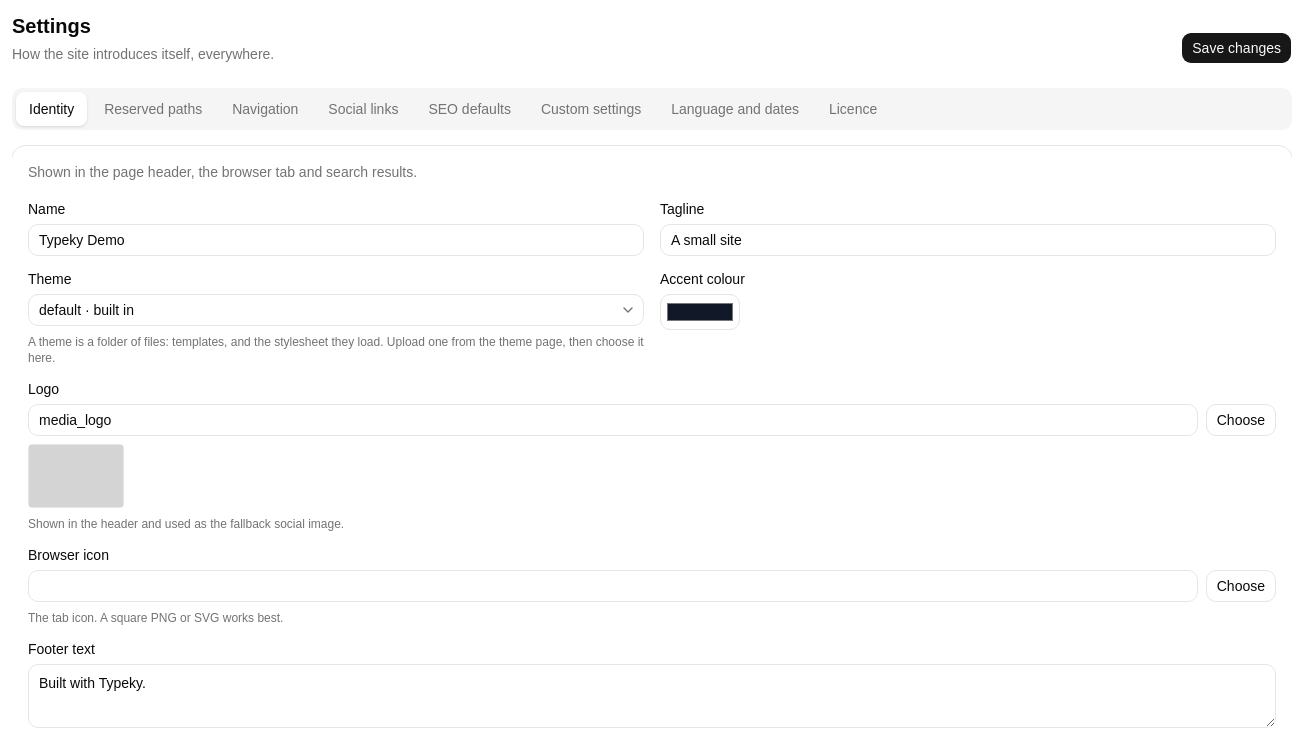
navigation › adds and removes items
This screenshot has width=1304, height=732.
Click the tab "Navigation" at (265, 109), box [219,92,311,126]
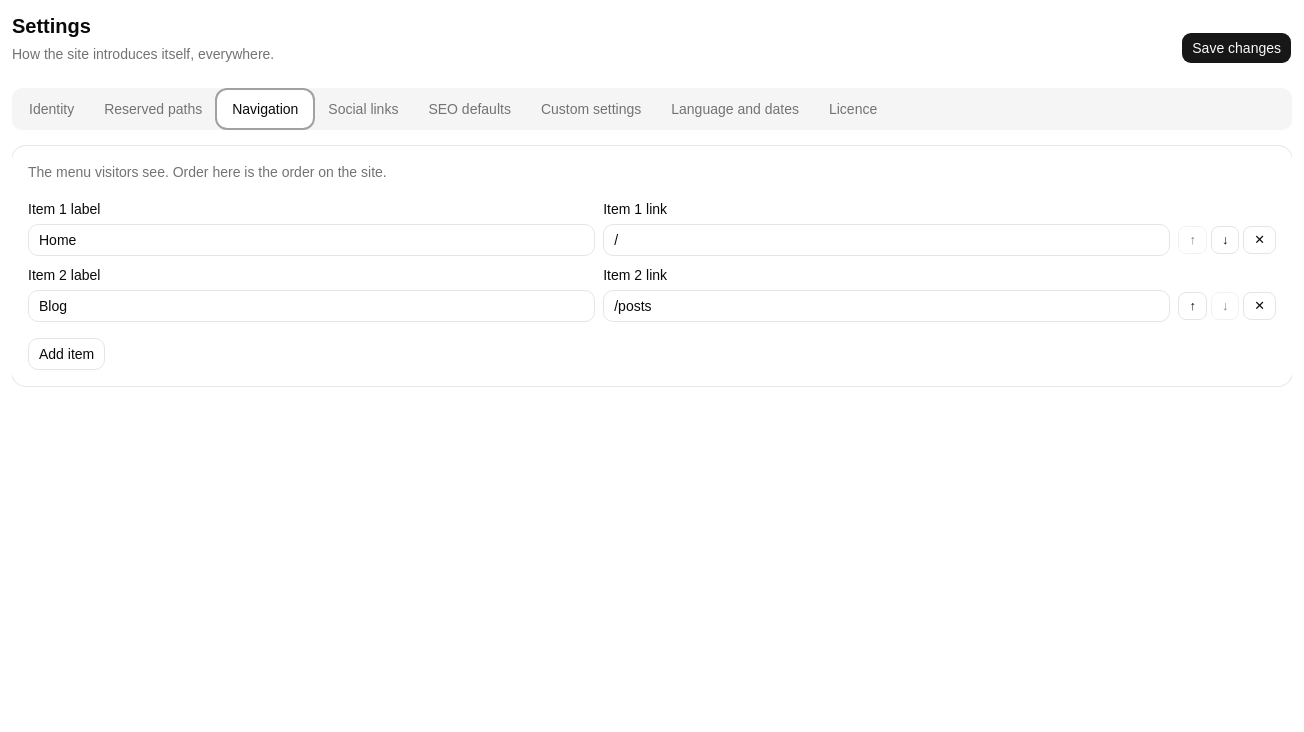
Click the button "Add item" at (67, 354), box [28,338,105,370]
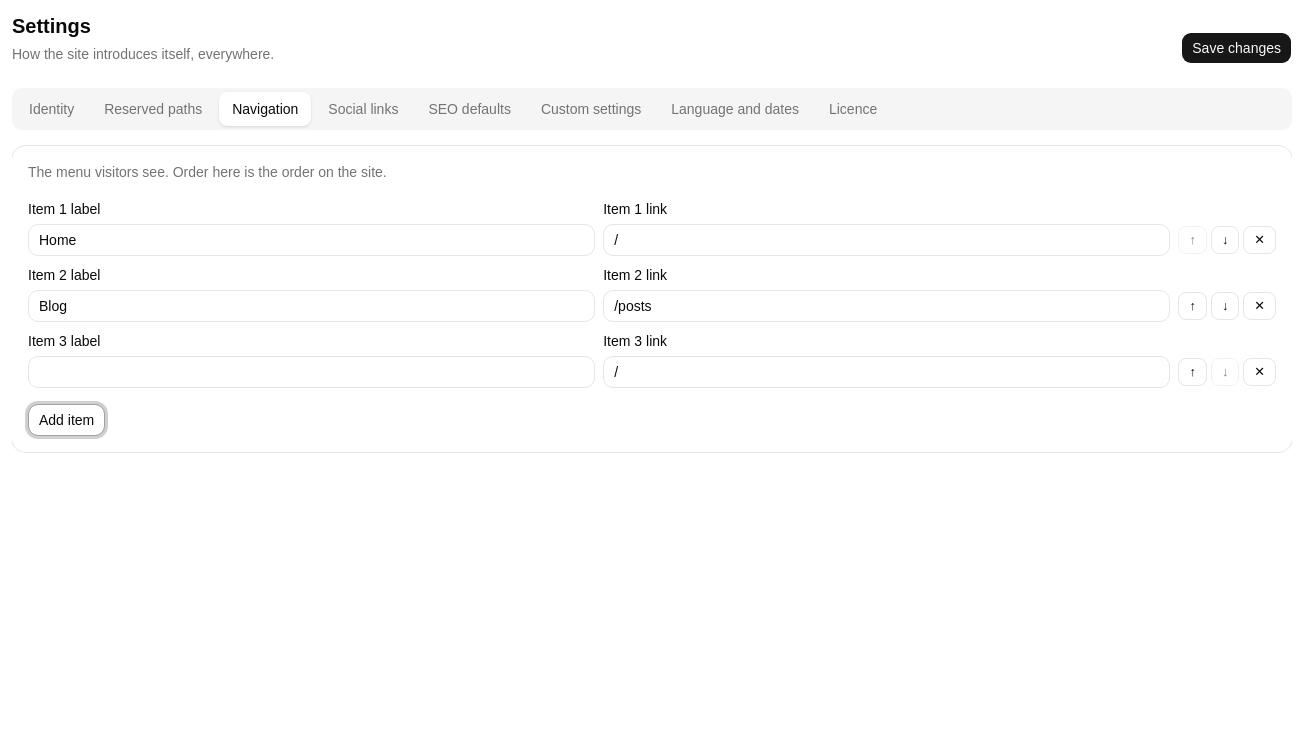
Expected: the field labelled "Item 3 label" is empty, [28,356,595,388]
Click the button named "Remove Home" at (1260, 240), box [1243,226,1276,254]
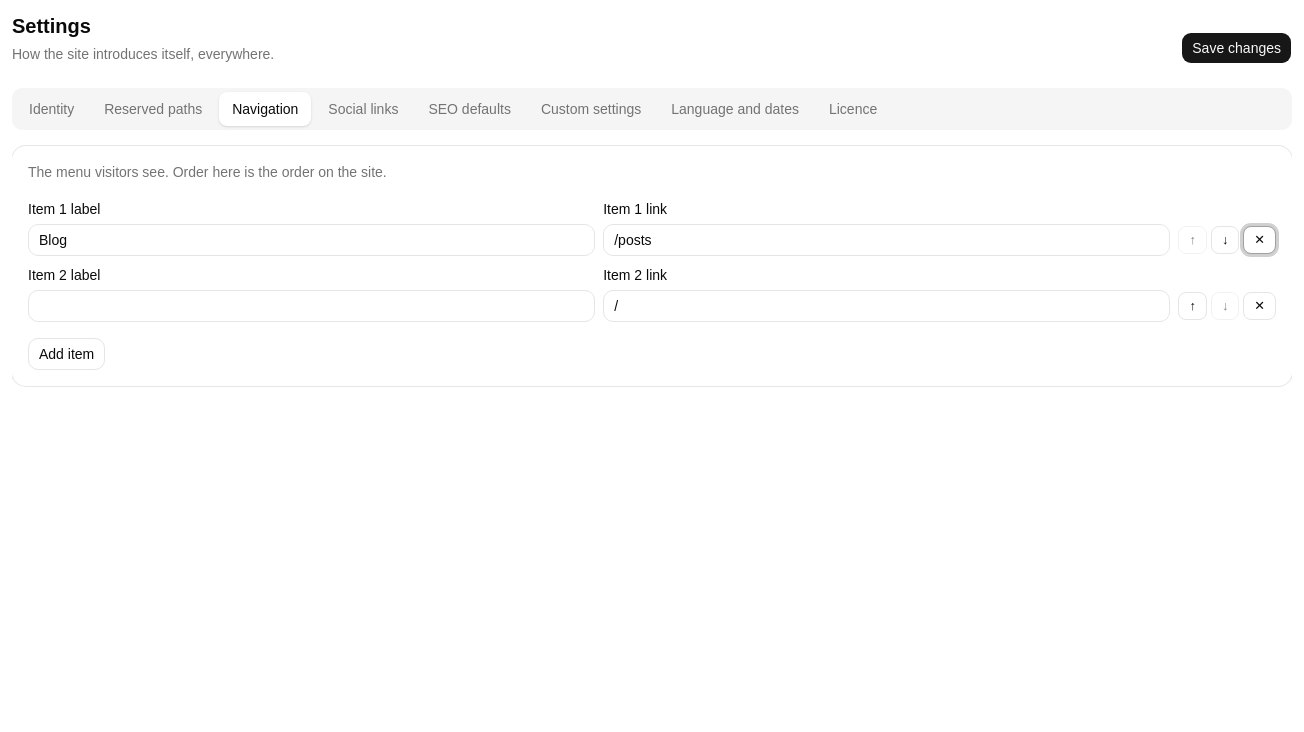
Expected: the label labelled "Item 3 label" is gone
Expected: the field labelled "Item 1 label" holds "Blog", [28,224,595,256]
